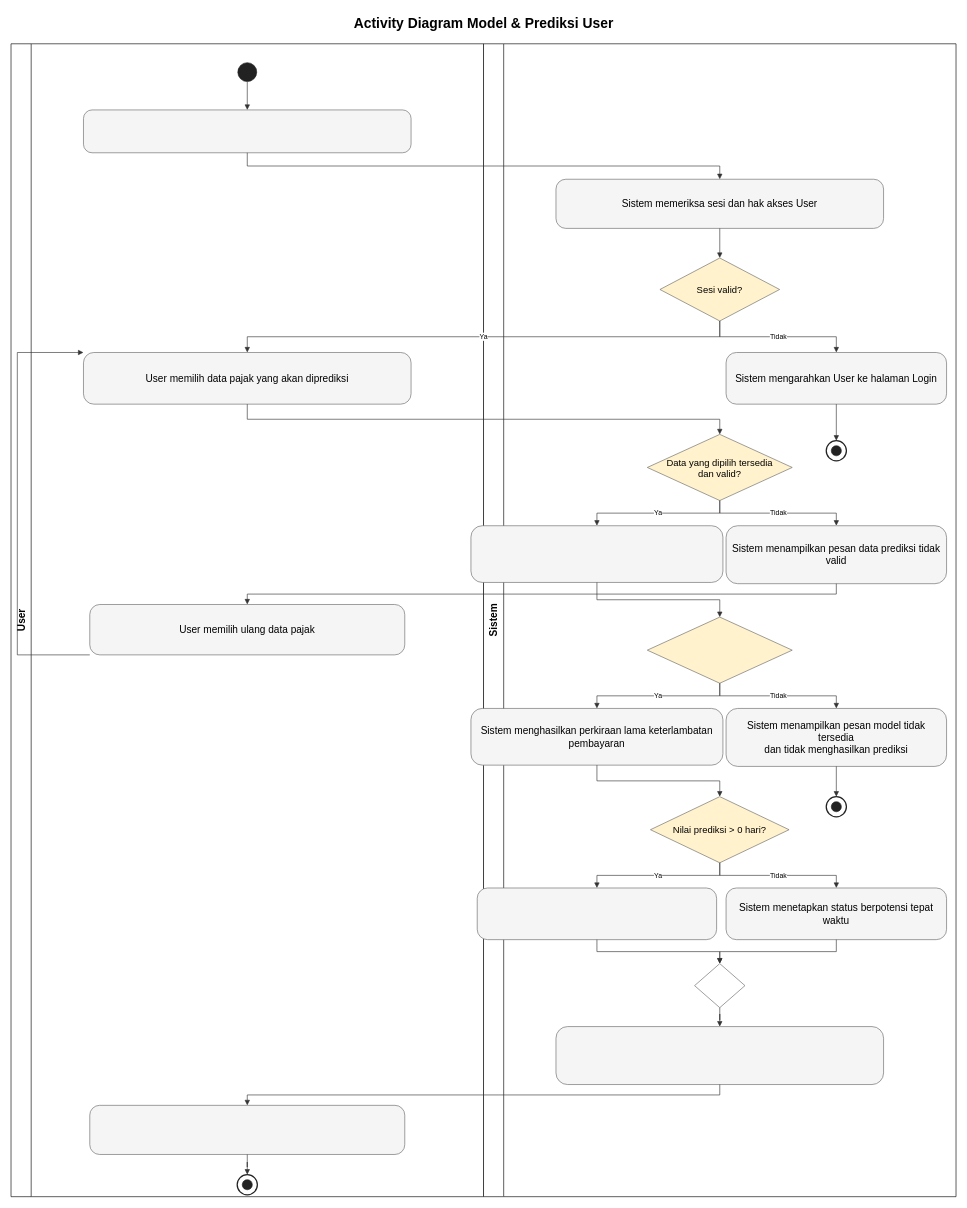
This 967x1208 diagram has some shape labels left out. The shapes that lost their labels are listed below. From the top down, each one's box as (x1, y1, x2, y2) in pixels, then its label:
(83, 109, 411, 153): User membuka menu Model & Prediksi
(470, 525, 723, 582): Sistem mengambil model Regresi Linear yang telah dibentuk Admin/Petugas
(647, 616, 792, 683): Model Regresi Linear tersedia?
(477, 887, 717, 940): Sistem menetapkan status berpotensi terlambat
(555, 1026, 884, 1085): Sistem menampilkan hasil prediksi dan evaluasi model
(89, 1105, 405, 1154): User melihat hasil prediksi sesuai hak akses
